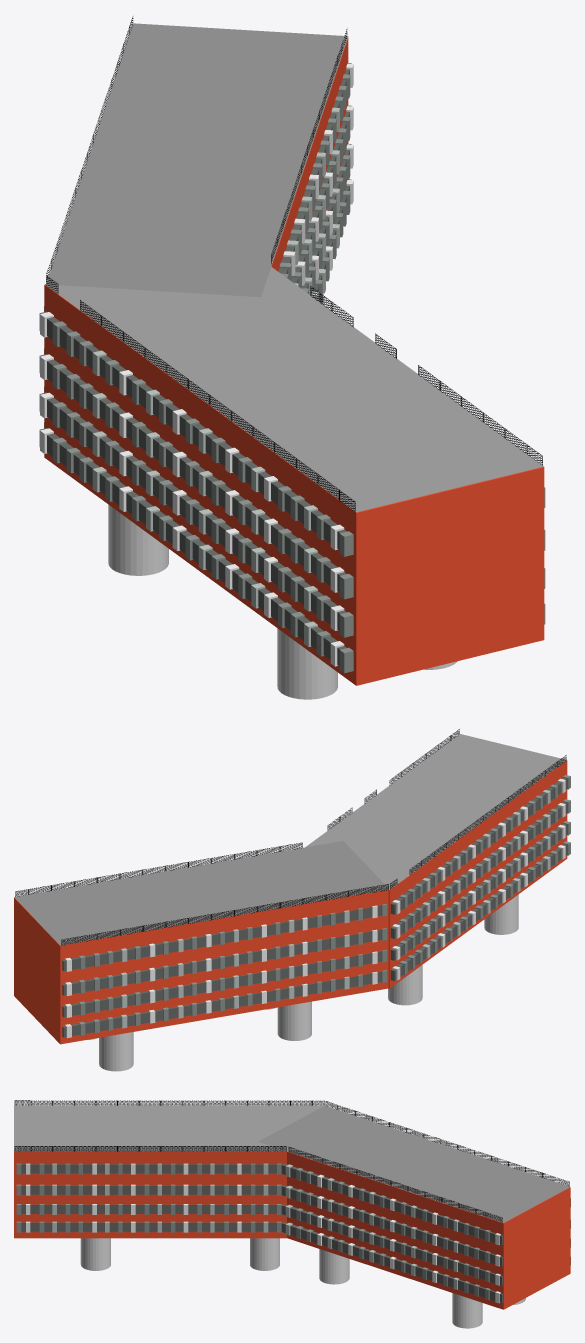
Rendered from block_AG.glb.
3 views of the same model, one above another, from view 1: azimuth 30°, elevation 25°; view 2: azimuth 150°, elevation 25°; view 3: azimuth 270°, elevation 25° (orthographic). The views are drawn at different scales.
Parts seen in each view (by area): view 1: Cube.205, Cube.017, Cube.206, Cube.279, Cube.228, Cube.212, Cube.254, Cylinder.012, Cylinder.004, Cube.001, Cube.372; view 2: Cube.001, Cube.205, Cube.206, Cube.017, Cube.372, Cube.346, Cube.321, Cube.388, Cube.212, Cube.279, Cube.254, Cube.228 (+4 smaller); view 3: Cube.001, Cube.205, Cube.017, Cube.206, Cube.212, Cube.228, Cube.254, Cube.279, Cube.321, Cube.372, Cube.388, Cube.346 (+4 smaller).
Boxes of the visible parts, x1,y1,x2,y2 form: Cube.205: (46,23,348,297); Cube.017: (44,285,544,685); Cube.206: (45,267,543,512); Cube.279: (39,428,346,666); Cube.228: (39,311,346,549); Cube.212: (39,354,346,592); Cube.254: (39,392,346,630); Cylinder.012: (277,628,337,699); Cylinder.004: (108,504,168,575); Cube.001: (271,37,348,271); Cube.372: (278,63,351,273); Cube.001: (14,889,388,1044); Cube.205: (14,841,389,945); Cube.206: (305,734,566,889); Cube.017: (388,760,567,988); Cube.372: (62,905,381,971); Cube.346: (62,951,381,1017); Cube.321: (62,972,381,1037); Cube.388: (62,930,381,995); Cube.212: (390,802,566,938); Cube.279: (390,844,566,980); Cube.254: (390,824,566,960); Cube.228: (390,778,566,914); Cube.001: (287,1151,570,1309); Cube.205: (258,1105,569,1222); Cube.017: (14,1151,286,1238); Cube.206: (14,1105,324,1151); Cube.212: (21,1185,287,1194); Cube.228: (21,1164,286,1173); Cube.254: (21,1204,286,1213); Cube.279: (21,1222,276,1231); Cube.321: (281,1222,570,1303); Cube.372: (281,1164,570,1244); Cube.388: (281,1186,570,1266); Cube.346: (281,1205,570,1285).
Size of the model in its own units: 0.4694 by 0.23 by 0.919.
